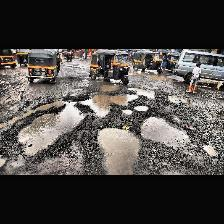pothole: (16, 97, 85, 155), (96, 126, 140, 174), (140, 116, 188, 146), (80, 92, 140, 116), (127, 86, 155, 98), (98, 84, 119, 92), (202, 144, 218, 154), (134, 104, 150, 112), (122, 108, 132, 114)
